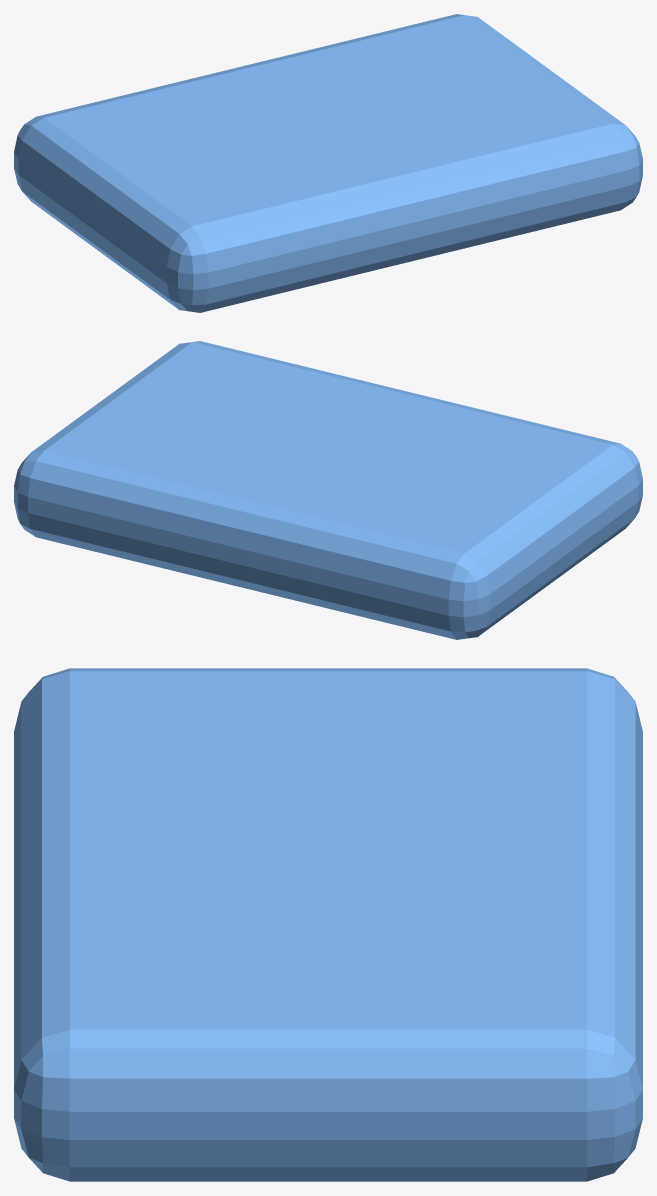
File: Pillow_12.fbx
The picture shows the model from 3 angles, top to bottom: view 1: azimuth 30°, elevation 25°; view 2: azimuth 150°, elevation 25°; view 3: azimuth 270°, elevation 25°; orthographic projection. The views are drawn at different scales.
Visible parts, largest first — view 1: Pillow_12; view 2: Pillow_12; view 3: Pillow_12.
Boxes of the visible parts, <box> form: Pillow_12: <box>14,14,642,312</box>; Pillow_12: <box>14,341,642,639</box>; Pillow_12: <box>14,668,642,1181</box>.
Size of the model in its own units: 0.5894 by 0.102 by 0.3898.
